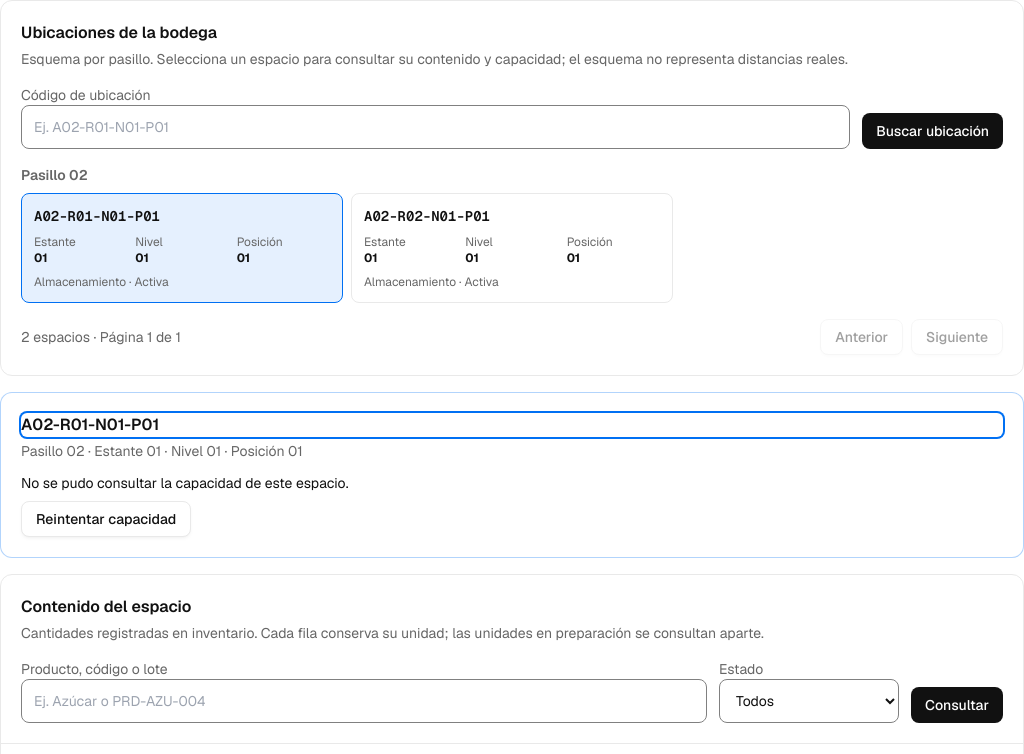
it: Consultas de inventario › dirige el foco al espacio seleccionado y permite reintentar capacidad
Click the button "Reintentar capacidad" at x=106, y=519, box [21,501,191,537]
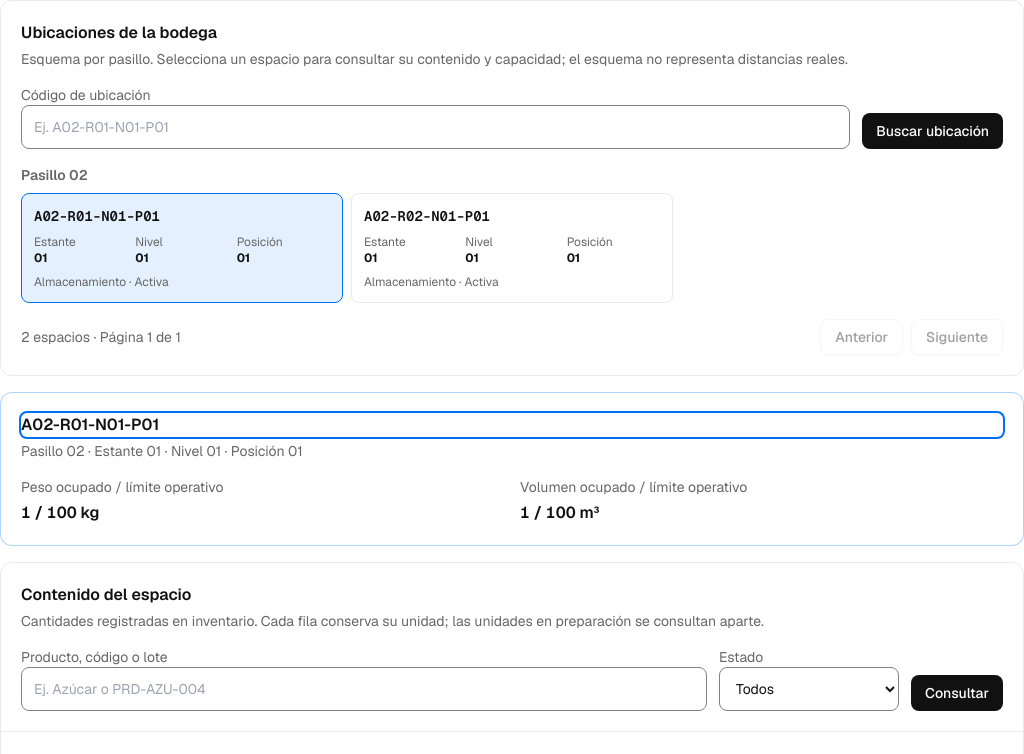
Now the text "Peso ocupado / límite operativo" is shown, box [21,478,224,496]
